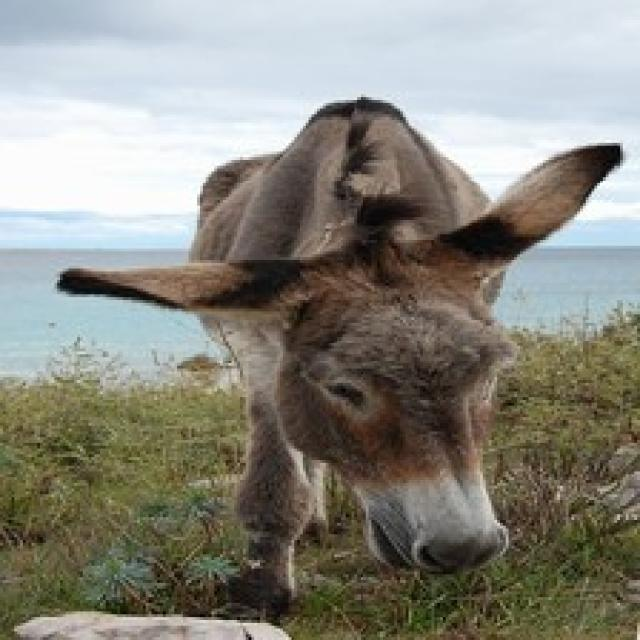Donkey: (23, 37, 640, 640)
